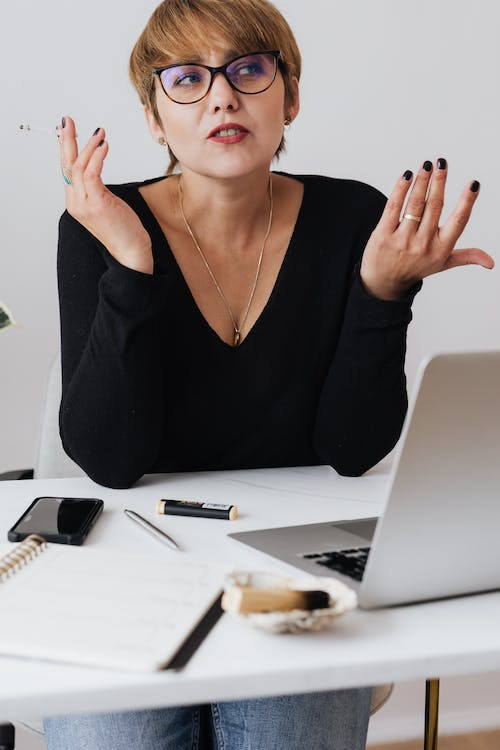cigarette: (17, 119, 84, 141)
